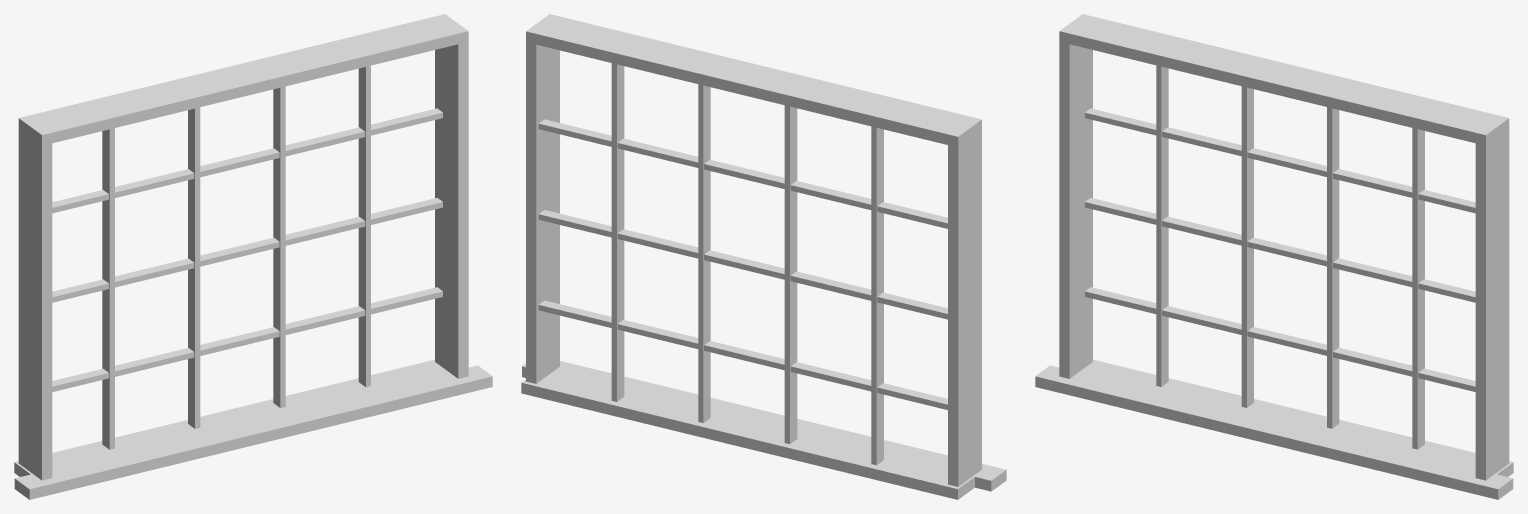
The model's file is Window1_03.fbx.
3 renders of one model, left to right at view 1: azimuth 30°, elevation 25°; view 2: azimuth 150°, elevation 25°; view 3: azimuth 330°, elevation 25°, orthographic.
Parts seen in each view (by area): view 1: Window1_03; view 2: Window1_03; view 3: Window1_03.
Part boxes in pixels (box(x1,y1,x2,y2)): Window1_03: box(14, 14, 492, 499); Window1_03: box(521, 14, 1006, 499); Window1_03: box(1035, 14, 1513, 499).
Bounding box in the file's own units: 2.28 × 1.68 × 0.27.
